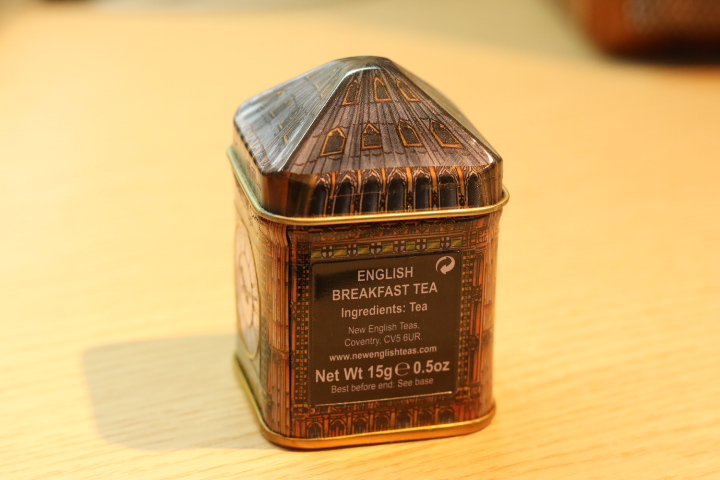Big Ben: (209, 50, 533, 463)
